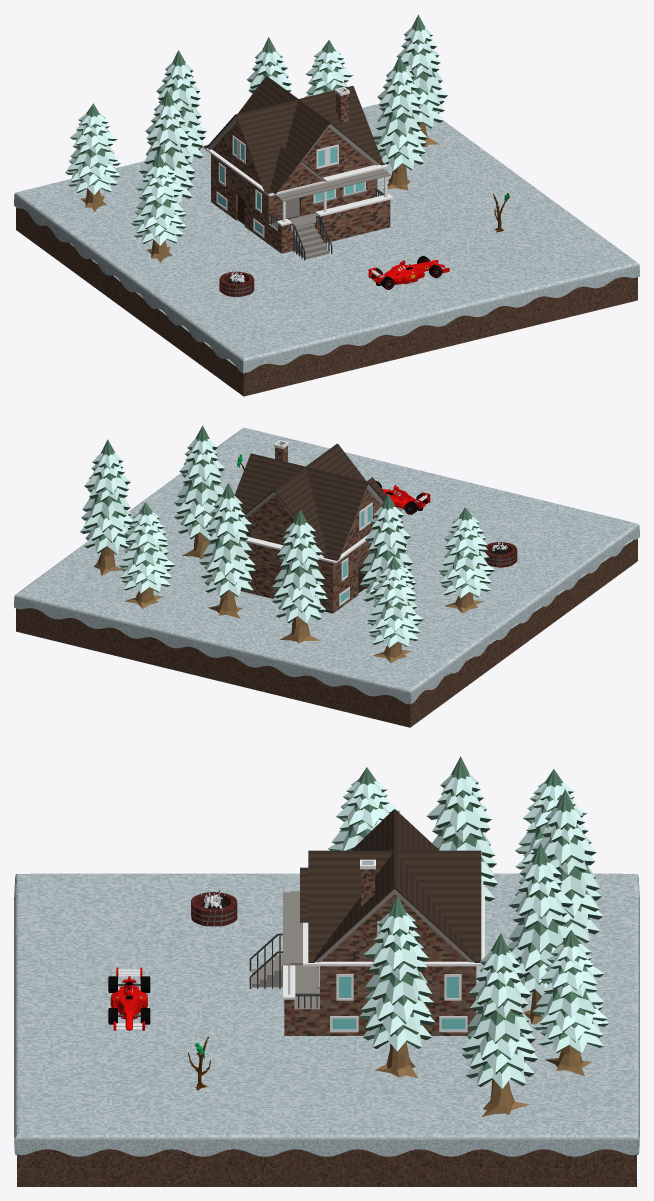
The picture shows the model from 3 angles, top to bottom: view 1: azimuth 30°, elevation 25°; view 2: azimuth 150°, elevation 25°; view 3: azimuth 270°, elevation 25°; orthographic projection. The views are drawn at different scales.
Visible parts, largest first — view 1: Cube.003, Cube.117, VEHICLES_FORMULA_1, OBJRANDOM_CAMPFIRE; view 2: Cube.003, Cube.117, VEHICLES_FORMULA_1, OBJRANDOM_CAMPFIRE; view 3: Cube.003, Cube.117, VEHICLES_FORMULA_1, OBJRANDOM_CAMPFIRE.
Part boxes in pixels (left/top/right/bottom): Cube.003: left=14, top=14, right=639, bottom=396; Cube.117: left=202, top=76, right=393, bottom=260; VEHICLES_FORMULA_1: left=368, top=256, right=449, bottom=289; OBJRANDOM_CAMPFIRE: left=219, top=270, right=254, bottom=296; Cube.003: left=14, top=425, right=639, bottom=727; Cube.117: left=235, top=440, right=405, bottom=613; VEHICLES_FORMULA_1: left=376, top=481, right=430, bottom=514; OBJRANDOM_CAMPFIRE: left=485, top=541, right=517, bottom=567; Cube.003: left=14, top=756, right=639, bottom=1186; Cube.117: left=249, top=809, right=484, bottom=1035; VEHICLES_FORMULA_1: left=108, top=967, right=150, bottom=1030; OBJRANDOM_CAMPFIRE: left=191, top=889, right=237, bottom=926.
Size of the model in its own units: 4040 by 1665 by 4040.
Materials: 35 (4 with a texture image).
